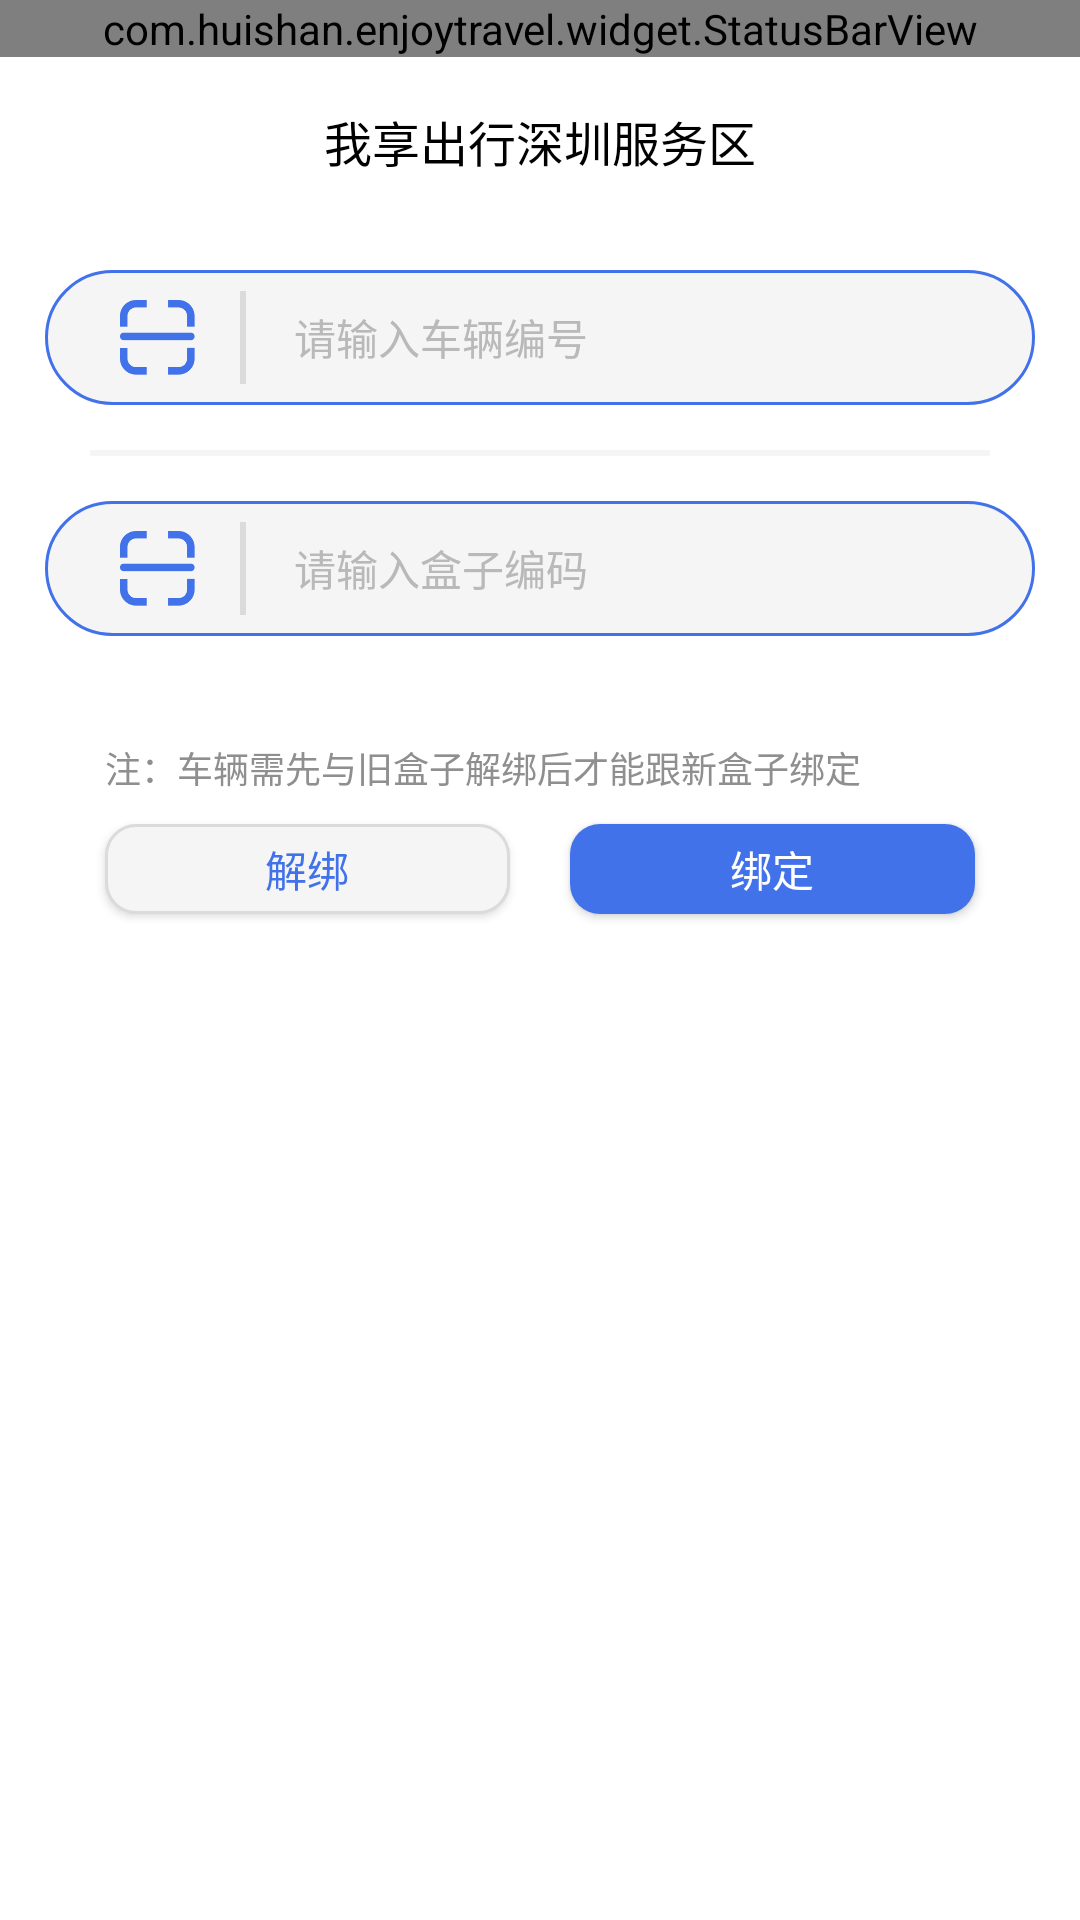

Screen size 1080x1920. Icon name, then its center in pixels as point (x, y):
scanner: point (157, 337), point (157, 568)
